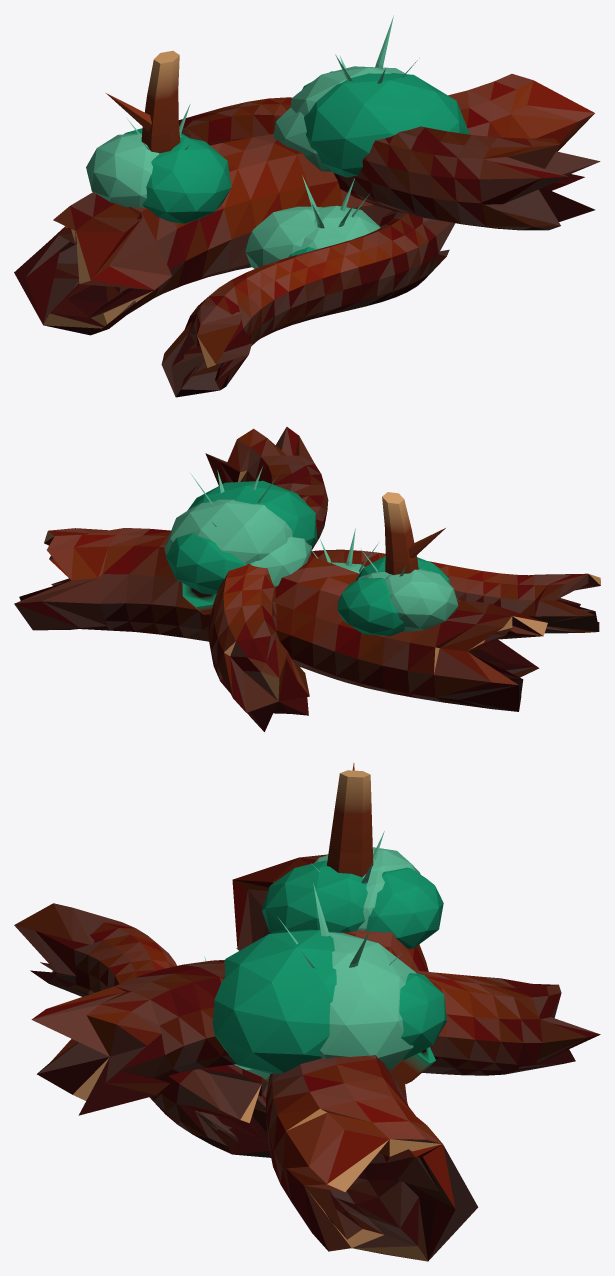
Rendered from pohon_tumbang_logjam_redwood_436538.glb.
3 renders of one model, top to bottom at view 1: azimuth 30°, elevation 25°; view 2: azimuth 150°, elevation 25°; view 3: azimuth 270°, elevation 25°, orthographic. The views are drawn at different scales.
Visible parts, largest first — view 1: Tumpukan_Kayu_Hanyut; view 2: Tumpukan_Kayu_Hanyut; view 3: Tumpukan_Kayu_Hanyut.
Boxes of the visible parts, x1,y1,x2,y2 form: Tumpukan_Kayu_Hanyut: (14,15,600,397); Tumpukan_Kayu_Hanyut: (14,427,600,731); Tumpukan_Kayu_Hanyut: (14,763,600,1261).
Size of the model in its own units: 4.7 by 1.91 by 3.62.
